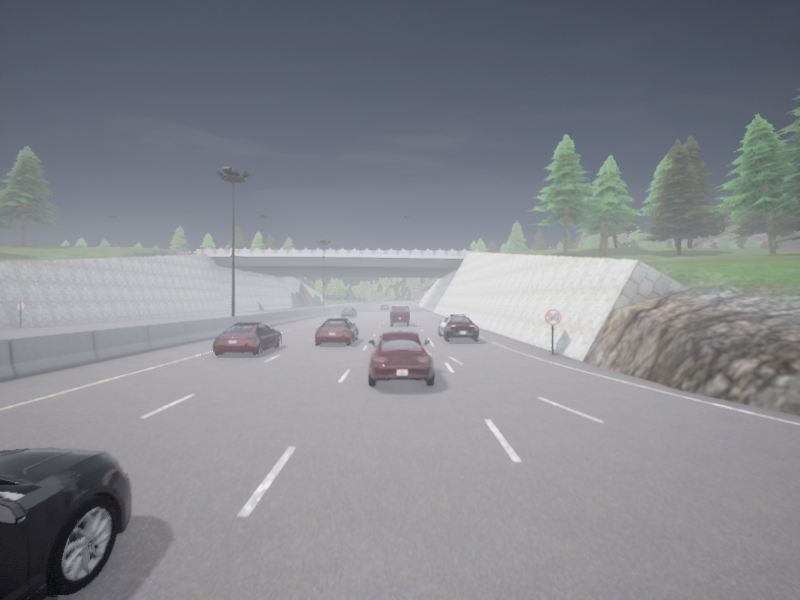vehicle: (0, 448, 130, 599), (368, 331, 434, 385), (213, 322, 281, 355), (315, 318, 358, 344), (438, 314, 479, 341), (390, 304, 409, 325), (341, 307, 357, 317), (381, 304, 389, 309)
